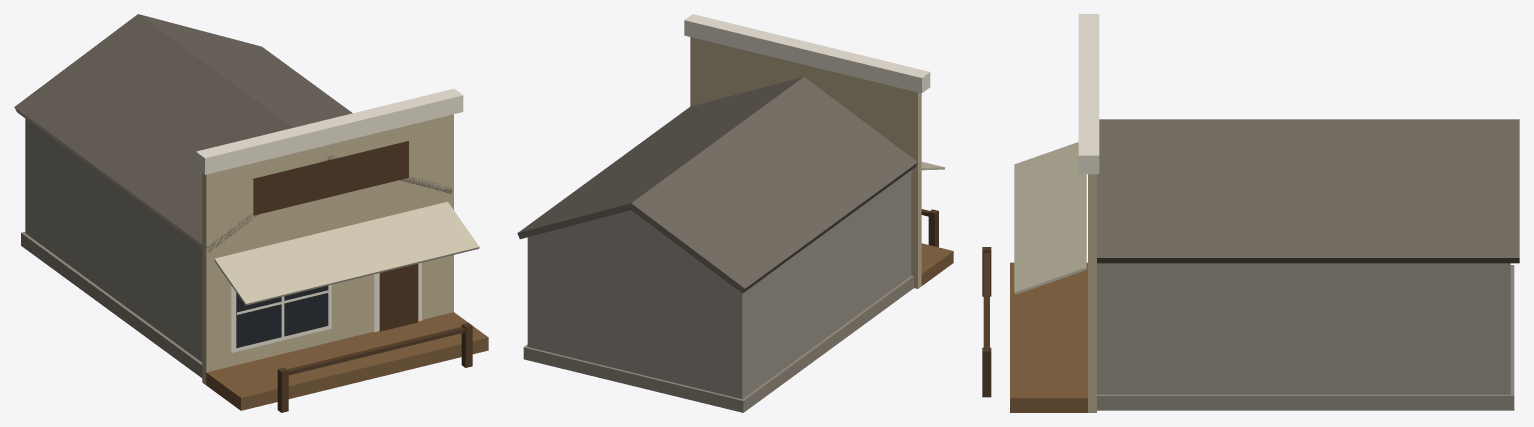
File: store_b.glb
3 views of the same model, side by side, from view 1: azimuth 30°, elevation 25°; view 2: azimuth 150°, elevation 25°; view 3: azimuth 270°, elevation 25° (orthographic). The views are drawn at different scales.
Parts seen in each view (by area): view 1: store_b; view 2: store_b; view 3: store_b.
Boxes of the visible parts, bbox=[...] form: store_b: bbox=[14, 14, 488, 412]; store_b: bbox=[517, 14, 953, 412]; store_b: bbox=[982, 14, 1519, 412].
Size of the model in its own units: 7.3 by 6.25 by 11.7.
